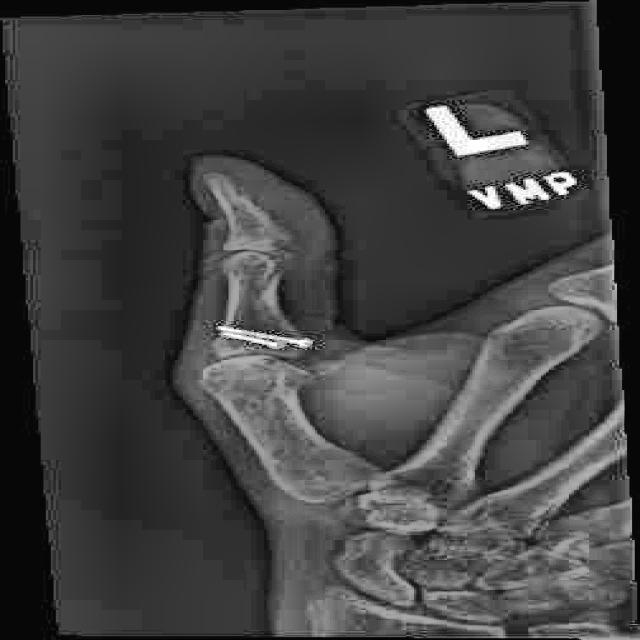fingers positive: (238, 216, 309, 308)
